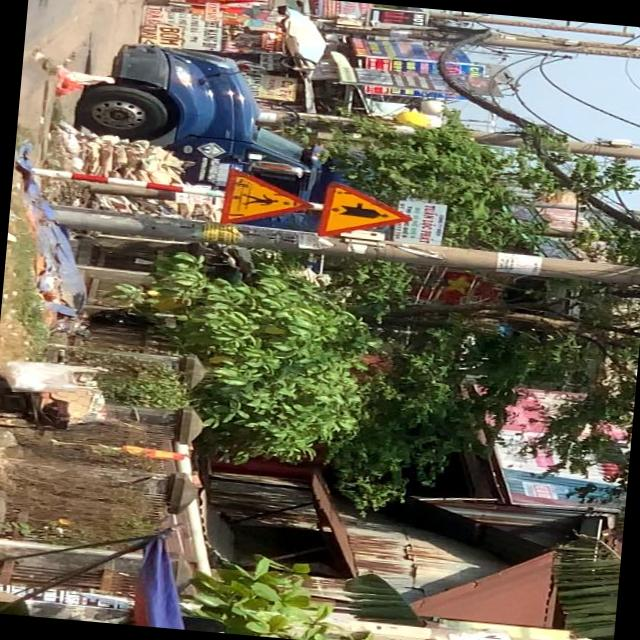W-207c: (315, 181, 415, 241)
W-224: (217, 164, 314, 232)
